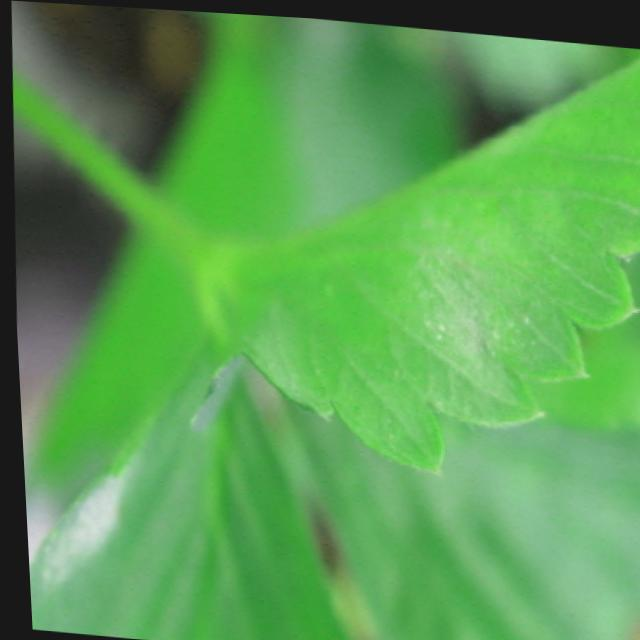Powdery Mildew Leaf: (185, 43, 640, 473), (23, 334, 352, 640)
